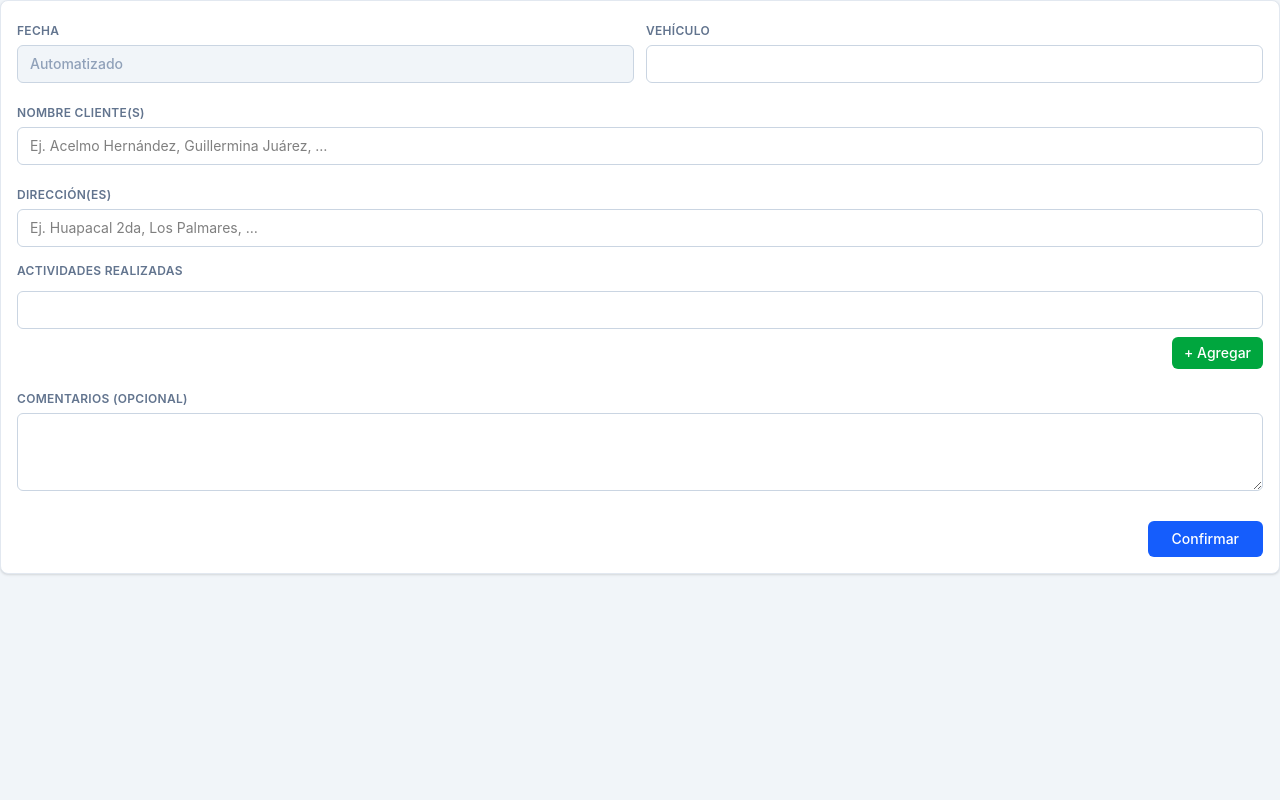
Test: ActividadesFormulario — validación de forma (RF-5/RF-6/RF-7) › exige Vehículo, Cliente(s), Dirección(es) y al menos una actividad
This screenshot has width=1280, height=800.
Click the button "Confirmar": point(1205, 539) 1148,521 -> 1263,557
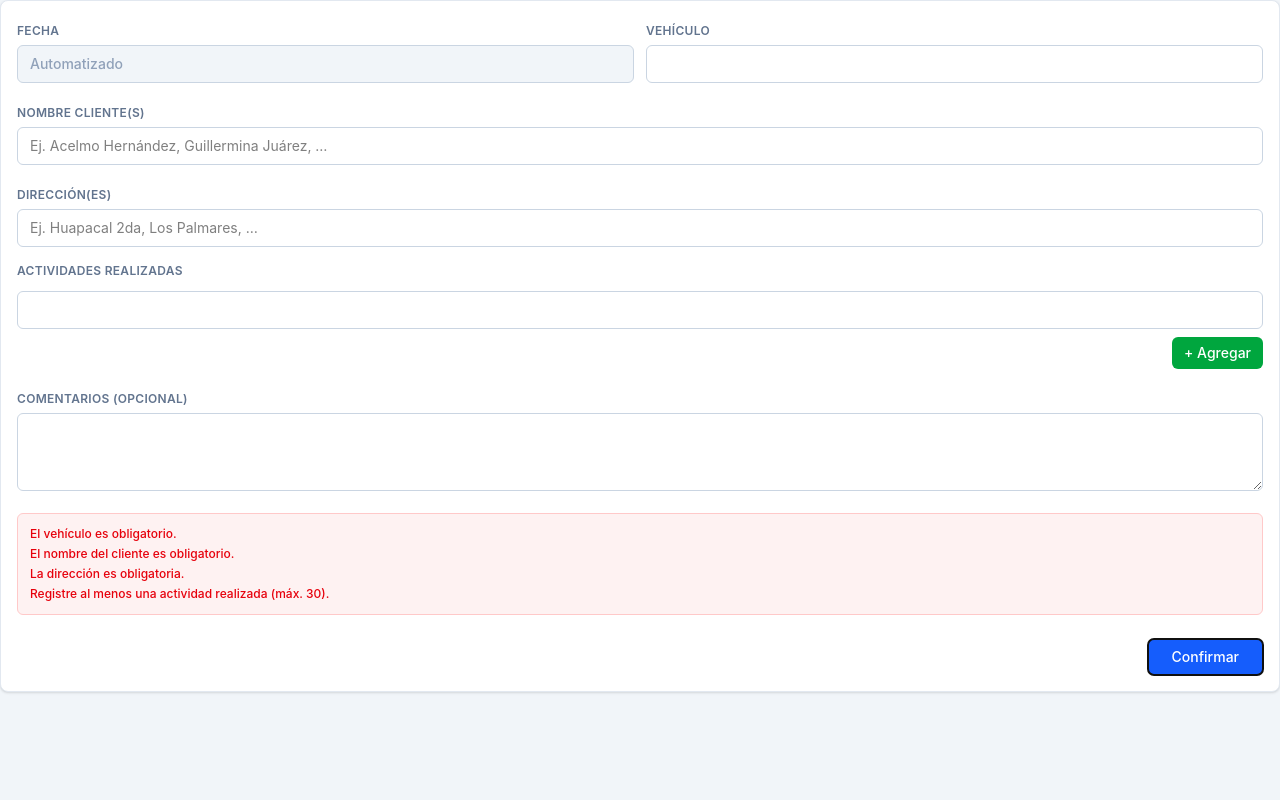
Expected: the text "El vehículo es obligatorio." is shown, 30,526 -> 177,541
Expected: the text "El nombre del cliente es obligatorio." is shown, 30,546 -> 234,561
Expected: the text "La dirección es obligatoria." is shown, 30,566 -> 184,581
